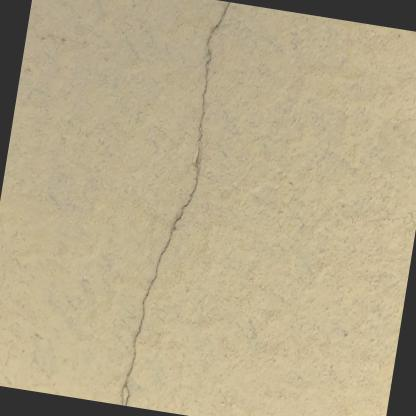crack: (124, 1, 229, 405)
